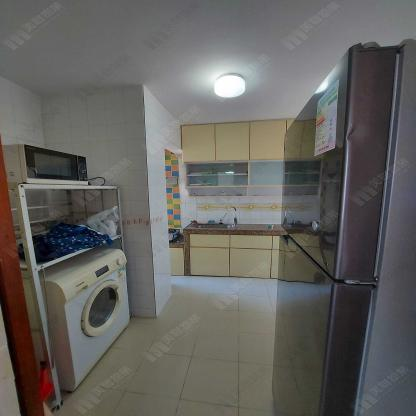Cupboard: (180, 118, 296, 197), (168, 234, 280, 279)
Faucet: (217, 206, 240, 225)
Fridge: (269, 38, 416, 416)
Microwave: (0, 143, 91, 186)
Sink: (191, 224, 234, 229)
Stove: (167, 227, 180, 240)
Washing Machine: (39, 247, 134, 394)
